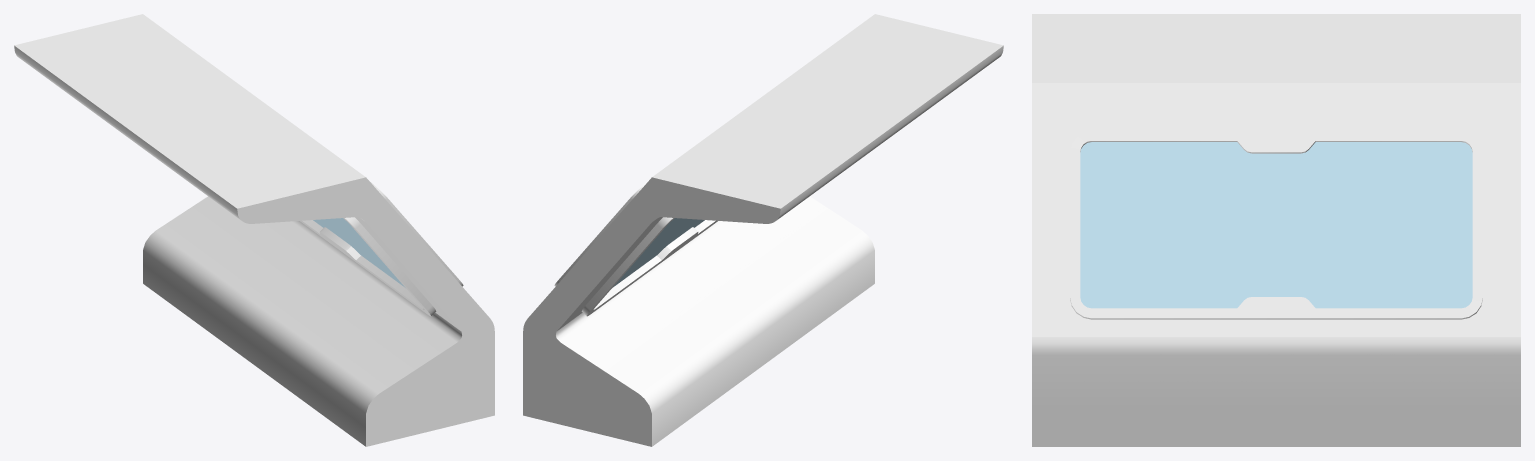
The model's file is Wall_Inclined_02_Long.glb.
The picture shows the model from 3 angles, left to right: view 1: azimuth 30°, elevation 25°; view 2: azimuth 150°, elevation 25°; view 3: azimuth 270°, elevation 25°; orthographic projection. The views are drawn at different scales.
Visible parts, largest first — view 1: Wall_Inclined_02_Long, Glass; view 2: Wall_Inclined_02_Long, Glass; view 3: Wall_Inclined_02_Long, Glass.
Boxes of the visible parts, left/top/right/bottom form: Wall_Inclined_02_Long: left=14, top=14, right=494, bottom=446; Glass: left=313, top=218, right=405, bottom=287; Wall_Inclined_02_Long: left=523, top=14, right=1003, bottom=446; Glass: left=612, top=218, right=704, bottom=287; Wall_Inclined_02_Long: left=1032, top=14, right=1520, bottom=446; Glass: left=1080, top=142, right=1472, bottom=308.
Size of the model in its own units: 4 by 4 by 6.
